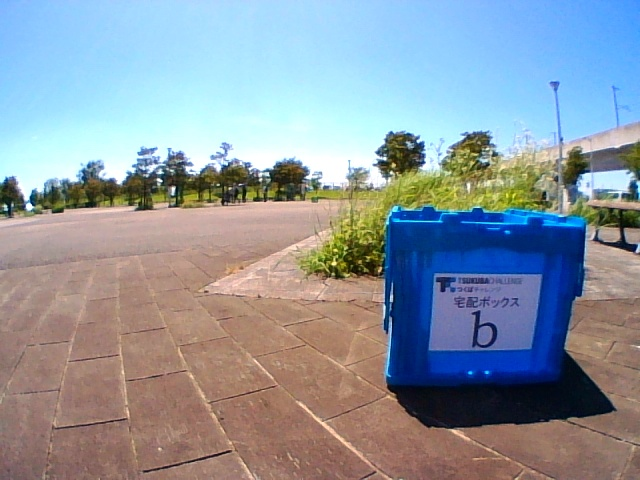blue_box: (393, 211, 557, 378)
tag_b: (435, 275, 530, 350)
